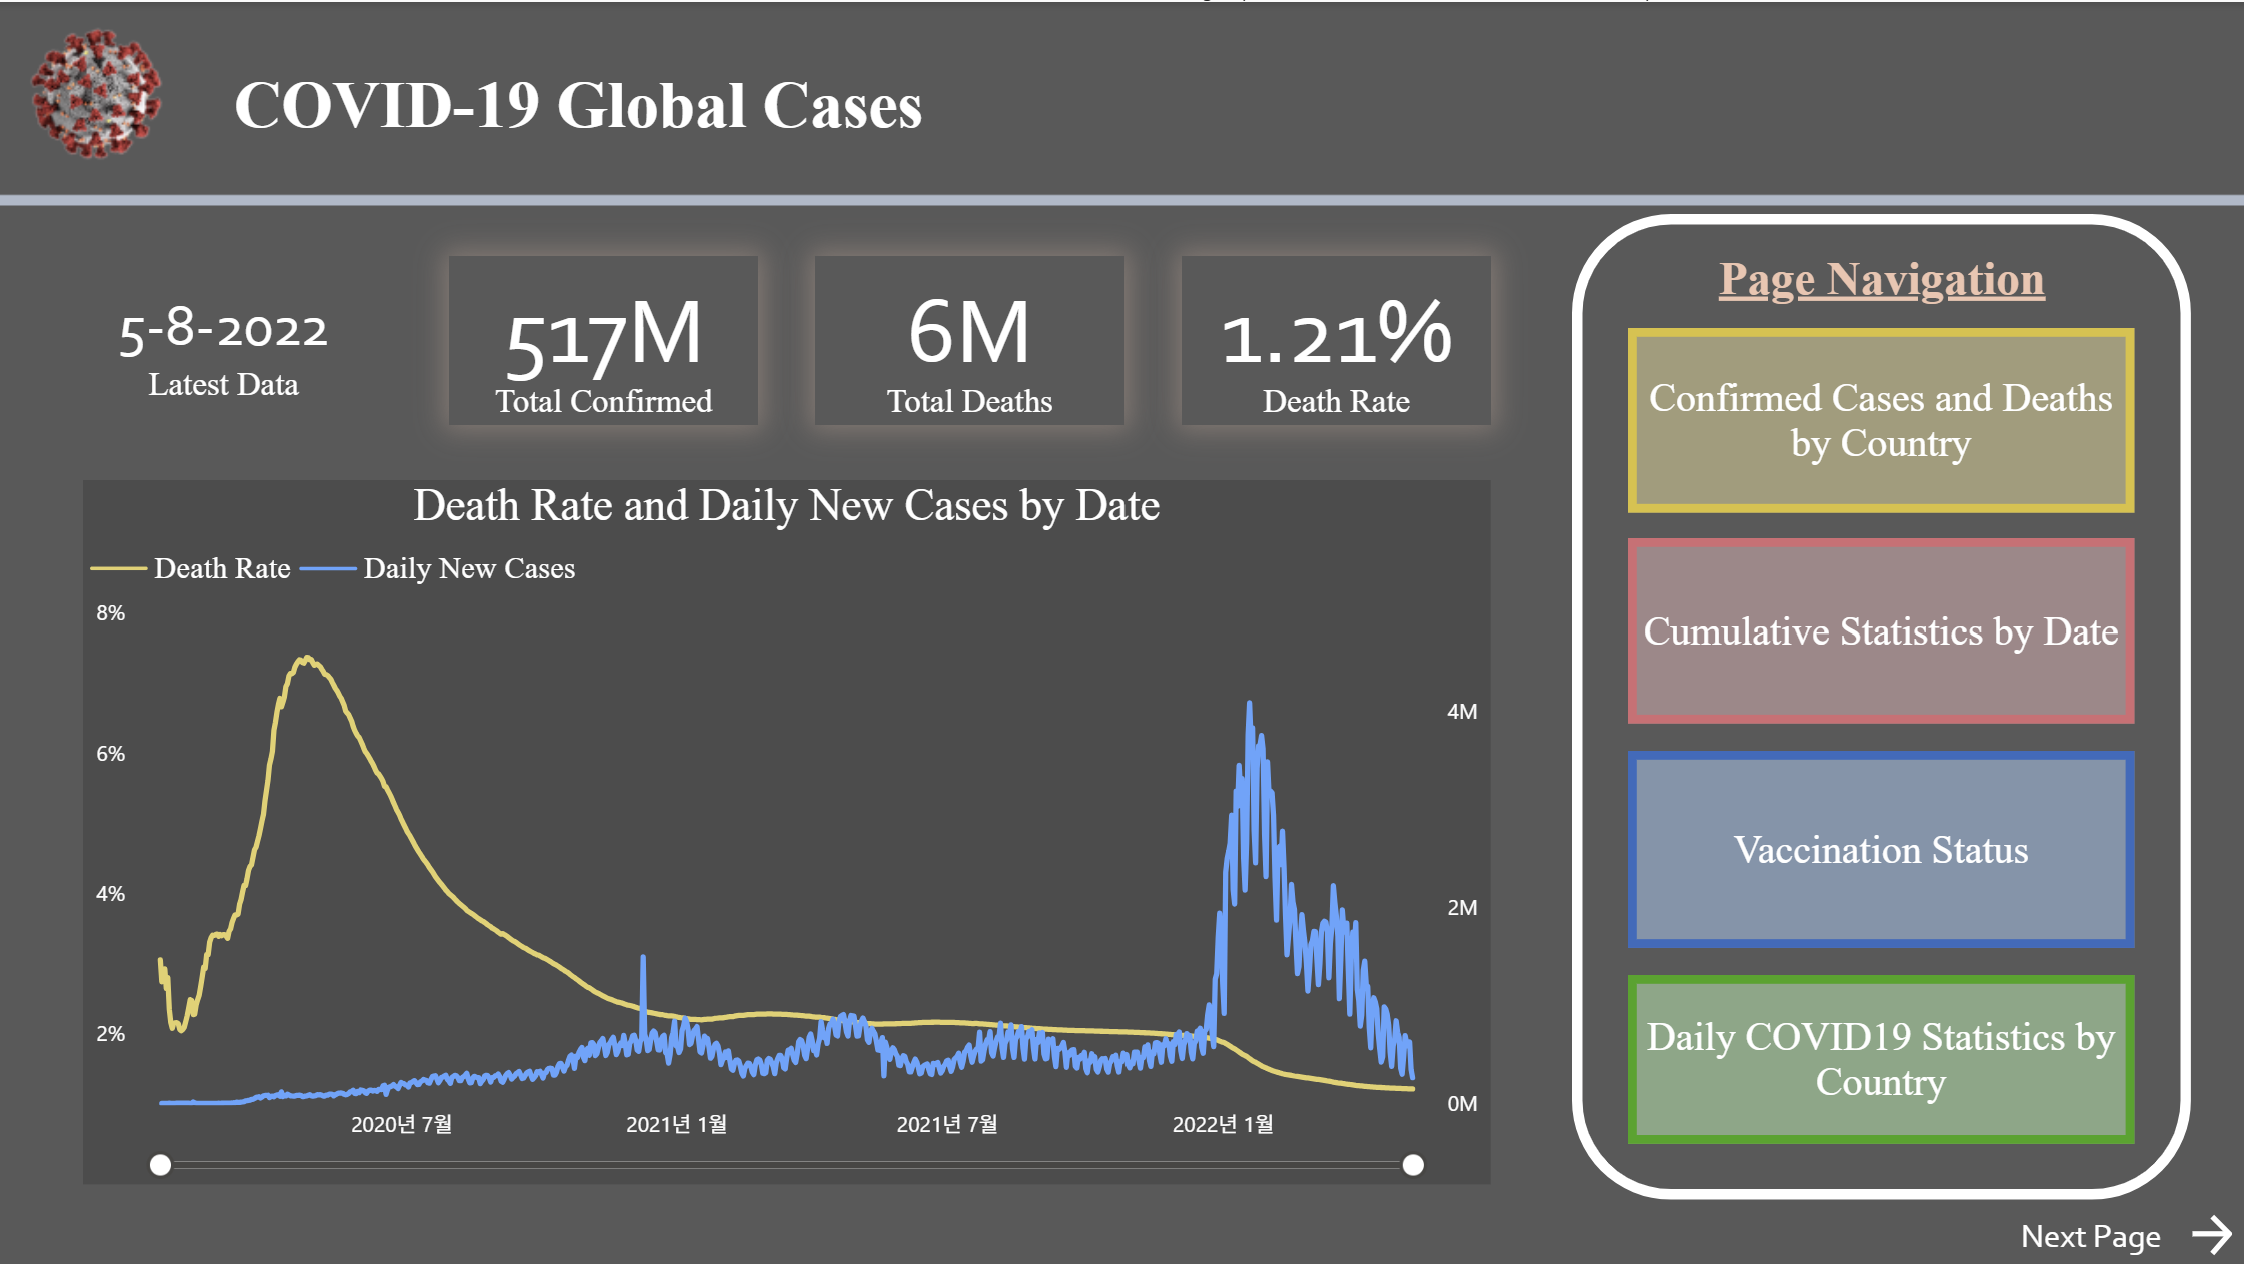

This screenshot's page, from the dashboard's own definition file:
{"tool":"powerbi","page":{"name":"Global Cases","canvas":[1280,720],"ordinal":0},"visuals":[{"type":"shape","box":[894.2,120.9,352,560],"z":0},{"type":"textbox","box":[128,32,432,64],"z":1000},{"type":"card","title":"Latest Data","fields":{"Values":["Max(Calendar.Date)"]},"box":[48,144,160,96],"z":2000},{"type":"card","fields":{"Values":["COVID-19 Measures.Total Confirmed"]},"box":[256,144,176,96],"z":3000},{"type":"card","fields":{"Values":["COVID-19 Measures.Total Deaths"]},"box":[464,144,176,96],"z":4000},{"type":"card","fields":{"Values":["COVID-19 Measures.Death Rate"]},"box":[672,144,176,96],"z":5000},{"type":"lineChart","fields":{"Y":["COVID-19 Measures.Death Rate"],"Y2":["COVID-19 Measures.Daily New Cases"],"Category":["Calendar.Date"]},"box":[48,272,800,400],"z":6000},{"type":"actionButton","box":[926.2,184.9,288,105],"z":7000},{"type":"actionButton","box":[926.2,304.9,288,105],"z":8000},{"type":"actionButton","box":[926.2,424.9,288,112],"z":9000},{"type":"textbox","box":[972.2,136.9,208,48],"z":10000},{"type":"actionButton","box":[1145,685,128,32],"z":11000},{"type":"actionButton","box":[926.2,552.9,288,96],"z":12000}]}

Visuals, with their boxes in screenshot pixels (x1, y1, x2, y2), scaled from the page's 1280x720 canvas onto the 2244x1264 screenshot:
shape: BBox(1568, 212, 2185, 1195)
textbox: BBox(224, 56, 982, 169)
"Latest Data" card: BBox(84, 253, 365, 421)
card - COVID-19 Measures.Total Confirmed: BBox(449, 253, 757, 421)
card - COVID-19 Measures.Total Deaths: BBox(813, 253, 1122, 421)
card - COVID-19 Measures.Death Rate: BBox(1178, 253, 1487, 421)
lineChart - COVID-19 Measures.Death Rate x COVID-19 Measures.Daily New Cases: BBox(84, 478, 1487, 1180)
actionButton: BBox(1624, 325, 2129, 509)
actionButton: BBox(1624, 535, 2129, 720)
actionButton: BBox(1624, 746, 2129, 943)
textbox: BBox(1704, 240, 2069, 325)
actionButton: BBox(2007, 1203, 2232, 1259)
actionButton: BBox(1624, 971, 2129, 1139)
